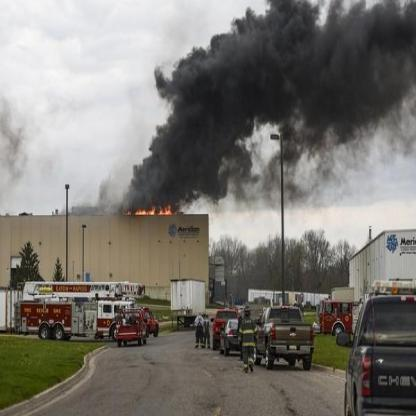fire: (123, 201, 179, 217)
